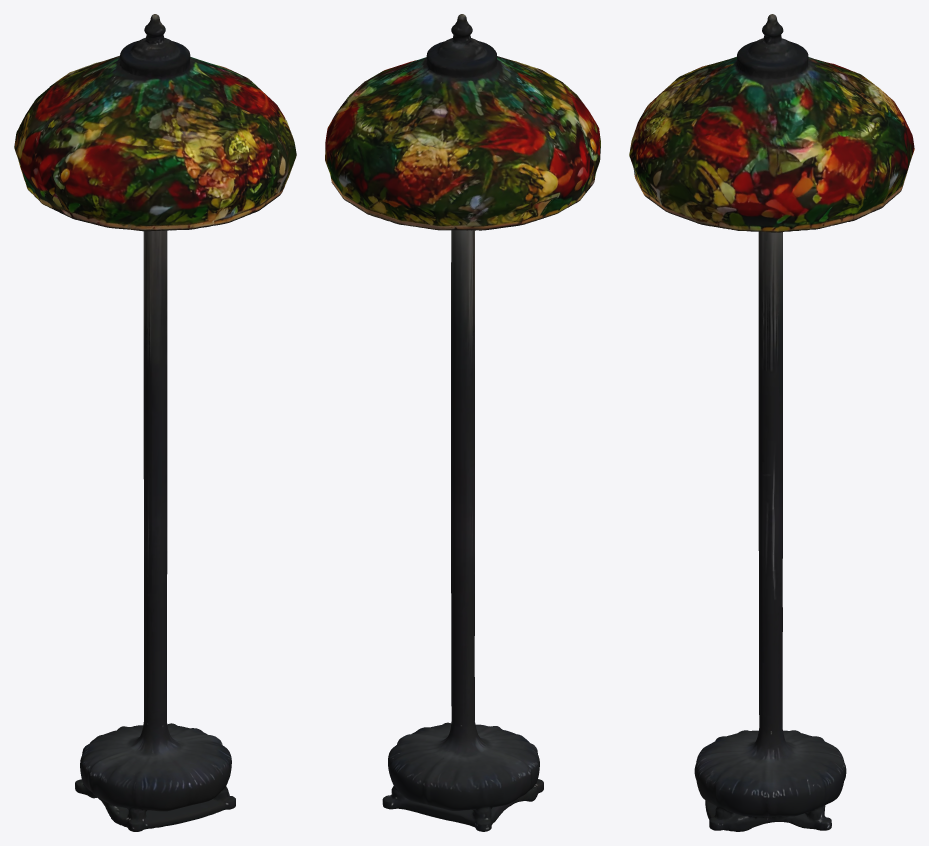
File: m-lamp-stylized.glb
The picture shows the model from 3 angles, left to right: view 1: azimuth 30°, elevation 25°; view 2: azimuth 150°, elevation 25°; view 3: azimuth 270°, elevation 25°; orthographic projection.
Visible parts, largest first — view 1: tripo_node_1b85c5a4-7990-4d96-bf3d-d6253bda97c3; view 2: tripo_node_1b85c5a4-7990-4d96-bf3d-d6253bda97c3; view 3: tripo_node_1b85c5a4-7990-4d96-bf3d-d6253bda97c3.
Boxes of the visible parts, x1,y1,x2,y2 form: tripo_node_1b85c5a4-7990-4d96-bf3d-d6253bda97c3: (14,14,296,831); tripo_node_1b85c5a4-7990-4d96-bf3d-d6253bda97c3: (325,14,600,831); tripo_node_1b85c5a4-7990-4d96-bf3d-d6253bda97c3: (629,14,914,831).
Bounding box in the file's own units: 0.5135 × 1.6 × 0.5227.
1 material, 1 textured.
